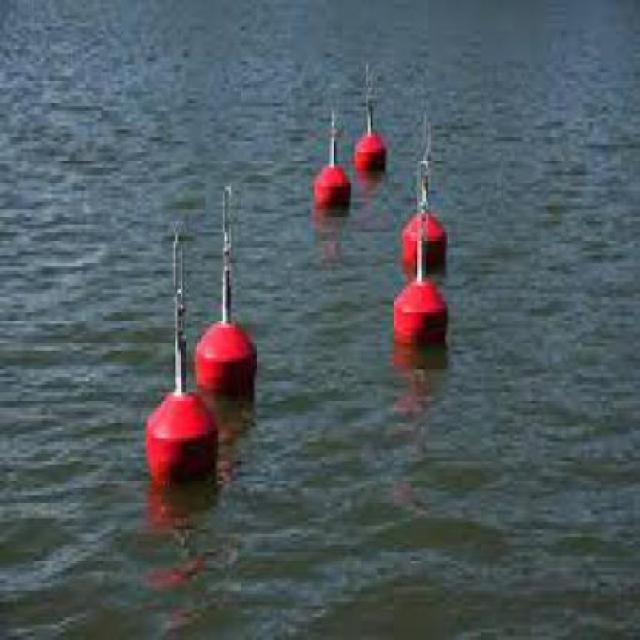buoy: (134, 321, 222, 481), (377, 256, 457, 348), (200, 290, 260, 398), (404, 161, 464, 264), (310, 130, 359, 226), (357, 96, 400, 188)
